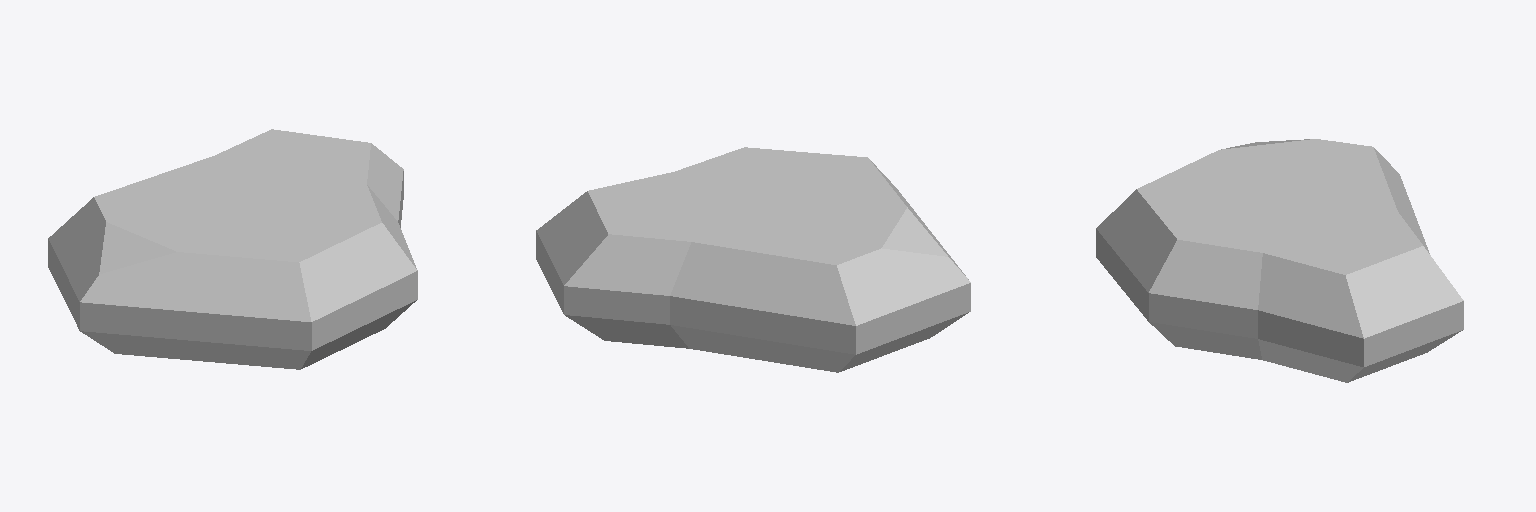
The model's file is stone_largeE.obj.
The picture shows the model from 3 angles: view 1: azimuth 30°, elevation 25°; view 2: azimuth 150°, elevation 25°; view 3: azimuth 270°, elevation 25°; orthographic projection.
Visible parts, largest first — view 1: stone_largeE; view 2: stone_largeE; view 3: stone_largeE.
Part boxes in pixels (x1,y1,x2,y2): stone_largeE: (48, 129, 417, 369); stone_largeE: (536, 147, 970, 372); stone_largeE: (1096, 139, 1463, 382).
Size of the model in its own units: 1.1 by 0.2922 by 0.9199.